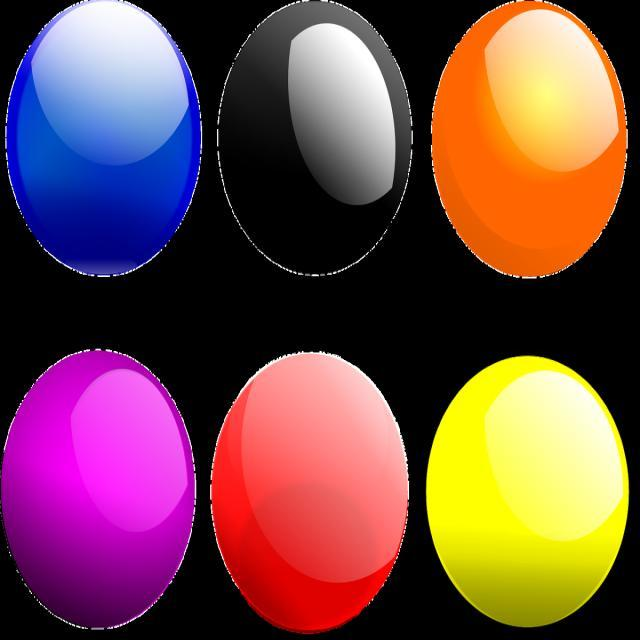Circle: (424, 352, 630, 630), (210, 350, 410, 632), (431, 0, 628, 278), (0, 349, 196, 628), (5, 0, 201, 277), (218, 0, 412, 274)
